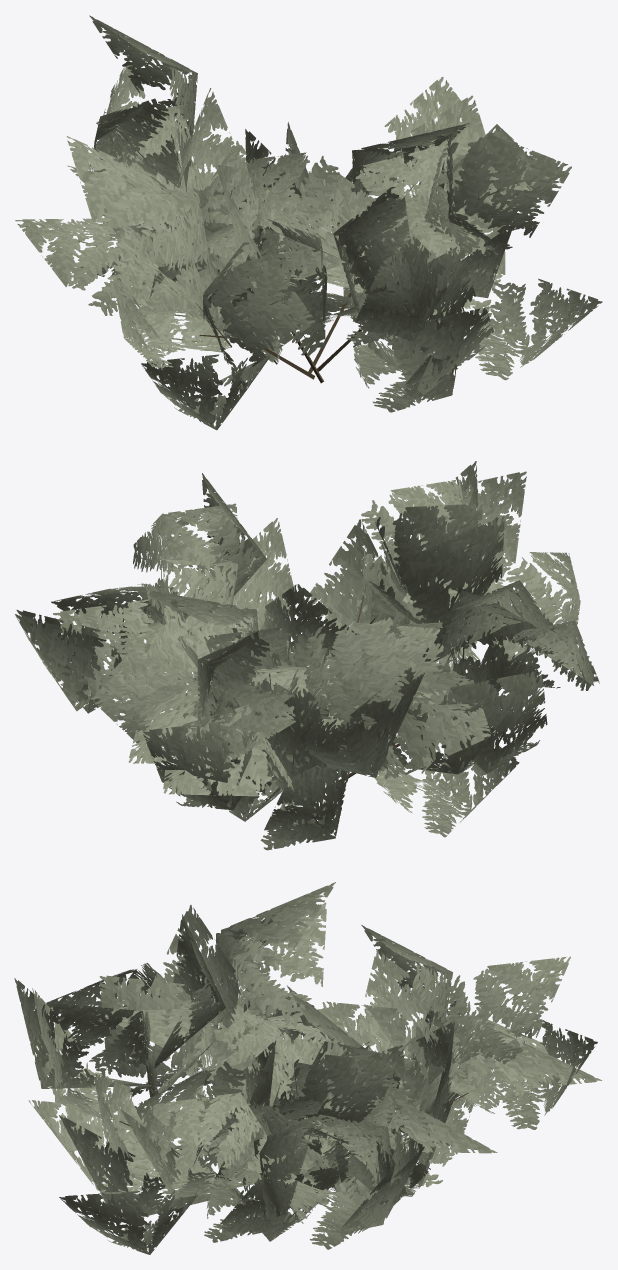
Rendered from SM_CN_Sage_B_LOD2.glb.
3 renders of one model, top to bottom at view 1: azimuth 30°, elevation 25°; view 2: azimuth 150°, elevation 25°; view 3: azimuth 270°, elevation 25°, orthographic. The views are drawn at different scales.
Parts seen in each view (by area): view 1: SM_CN_Sage_B_LOD2; view 2: SM_CN_Sage_B_LOD2; view 3: SM_CN_Sage_B_LOD2.
Part boxes in pixels (<box>): SM_CN_Sage_B_LOD2: <box>15,15,602,430</box>; SM_CN_Sage_B_LOD2: <box>15,461,599,850</box>; SM_CN_Sage_B_LOD2: <box>14,882,601,1254</box>.
Bounding box in the file's own units: 1.2 × 0.62 × 1.25.
2 materials, 2 textured.
